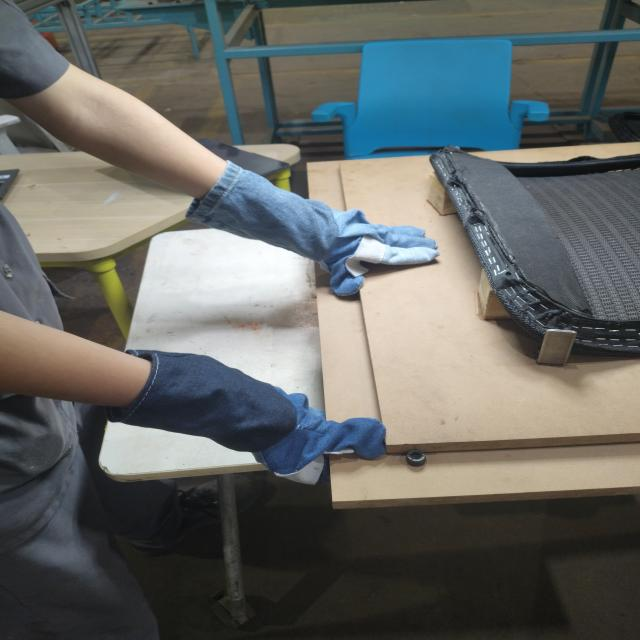Gloves-Detection: (125, 342, 383, 484), (187, 161, 427, 294)
